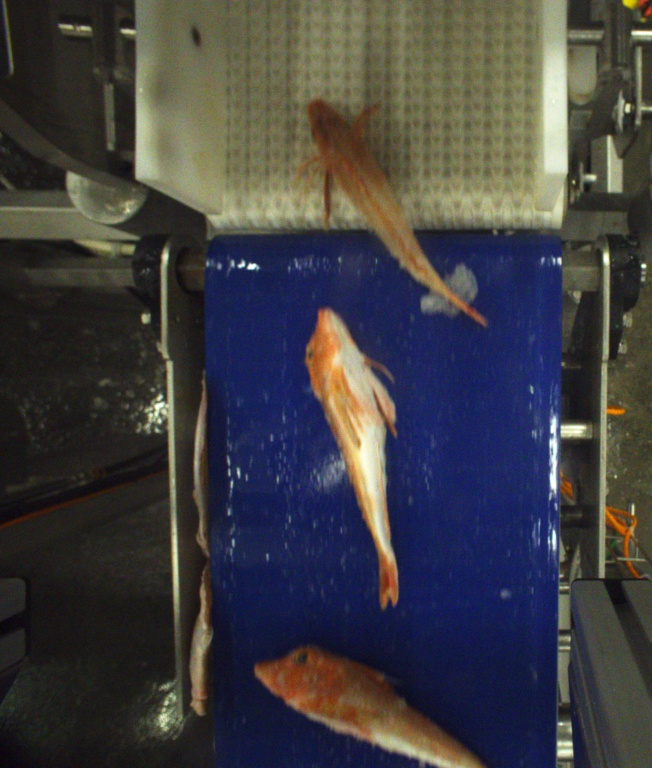GUU: (302, 309, 401, 613)
